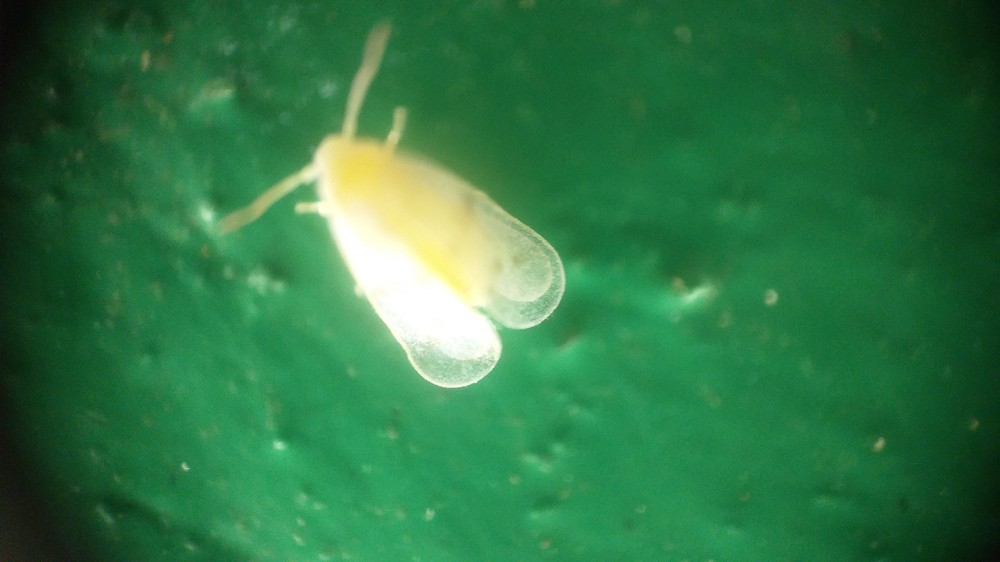Mosca Blanca: (185, 16, 590, 419)
